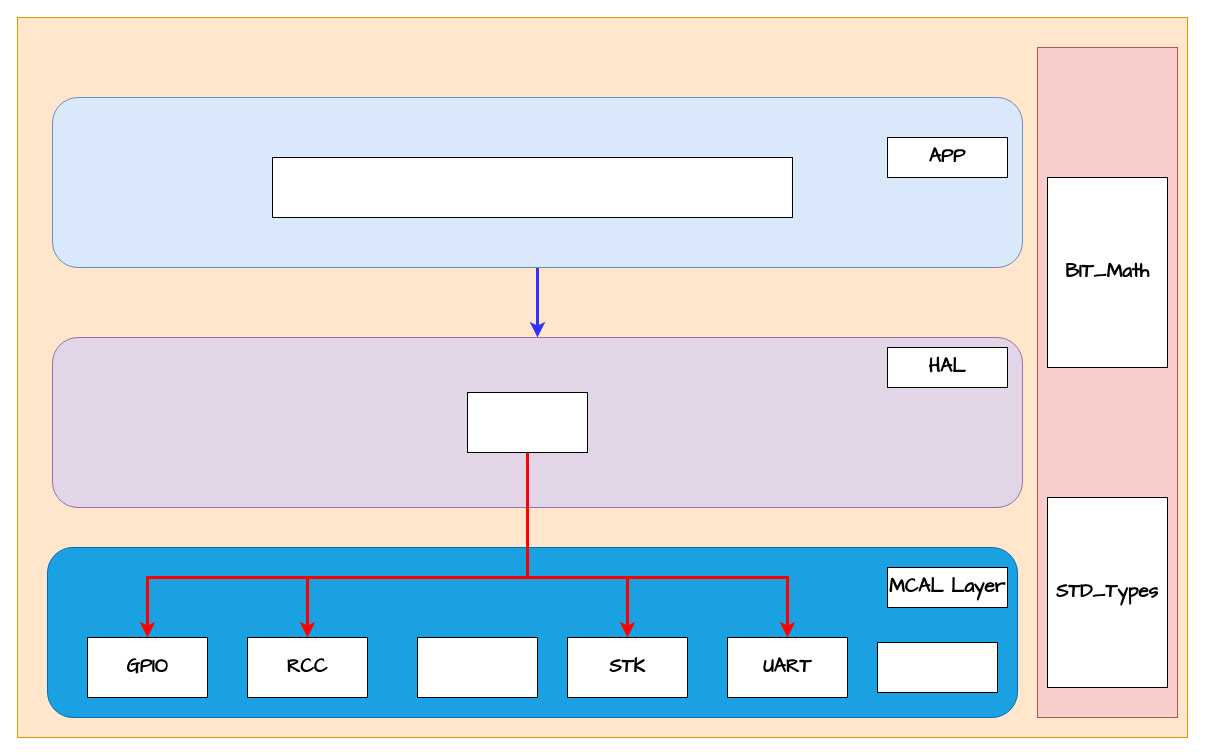
Image size: 1205x755. Some labels were removed from this diagram. The shapes that lost their labels are listed below. From the top down, each one's centre as x and y in pixels, then its label:
At point (532, 187): "Door Control".
At point (527, 422): "BUZZER".
At point (477, 667): "NVIC".
At point (937, 667): "EXTI".
